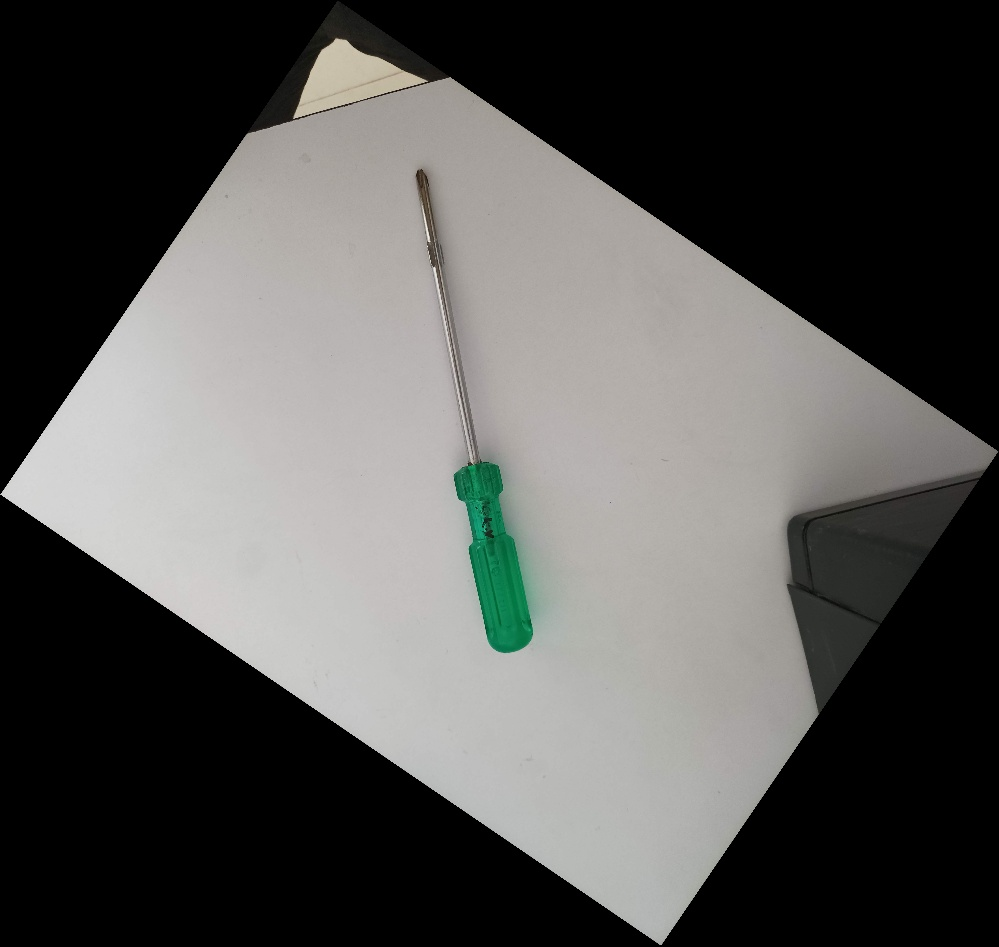screwdriver: (411, 166, 535, 656)
